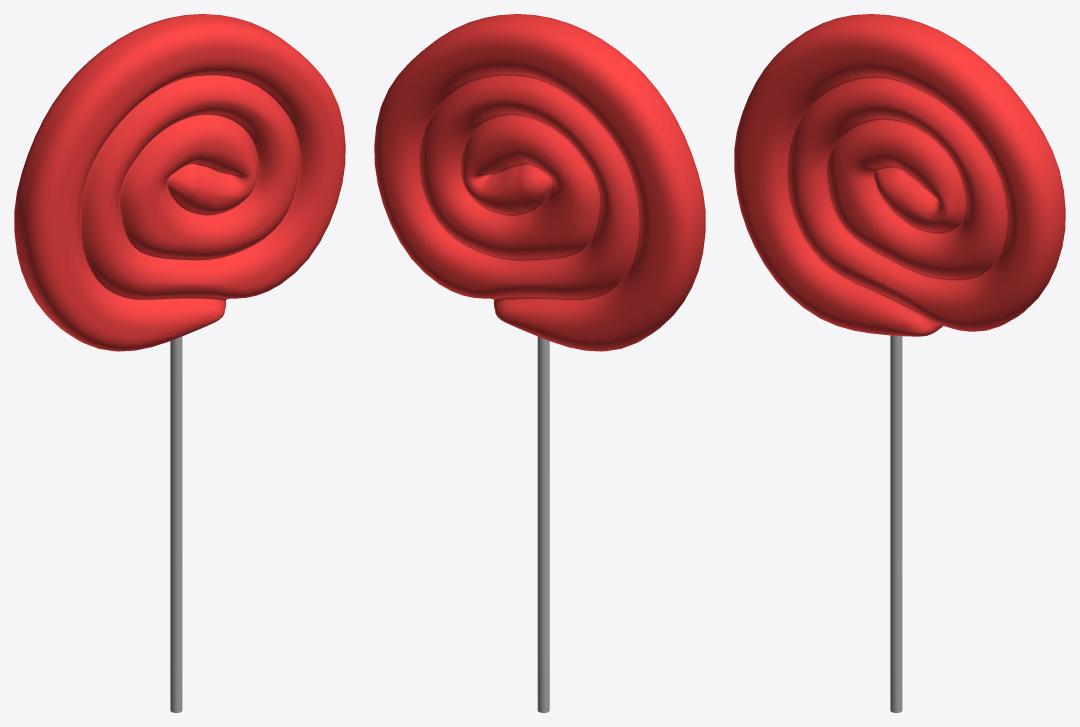
File: lollipop.glb
The picture shows the model from 3 angles, left to right: view 1: azimuth 30°, elevation 25°; view 2: azimuth 150°, elevation 25°; view 3: azimuth 330°, elevation 25°; orthographic projection.
Parts seen in each view (by area): view 1: lollipop, stick; view 2: lollipop, stick; view 3: lollipop, stick.
Boxes of the visible parts, bbox=[...] form: lollipop: bbox=[14, 14, 345, 351]; stick: bbox=[170, 336, 182, 712]; lollipop: bbox=[374, 14, 705, 351]; stick: bbox=[537, 336, 549, 712]; lollipop: bbox=[734, 14, 1065, 336]; stick: bbox=[890, 335, 902, 712].
Size of the model in its own units: 5.73 by 11.85 by 0.8878.
2 materials, 2 textured.
